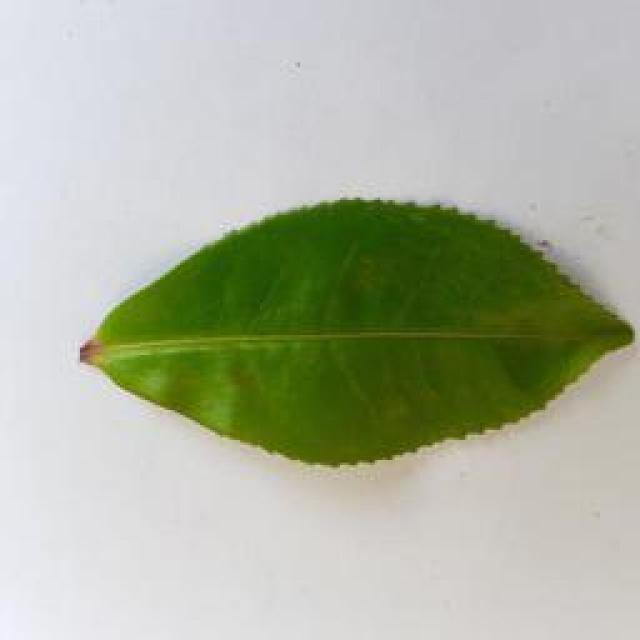Healthy: (81, 178, 640, 477)
